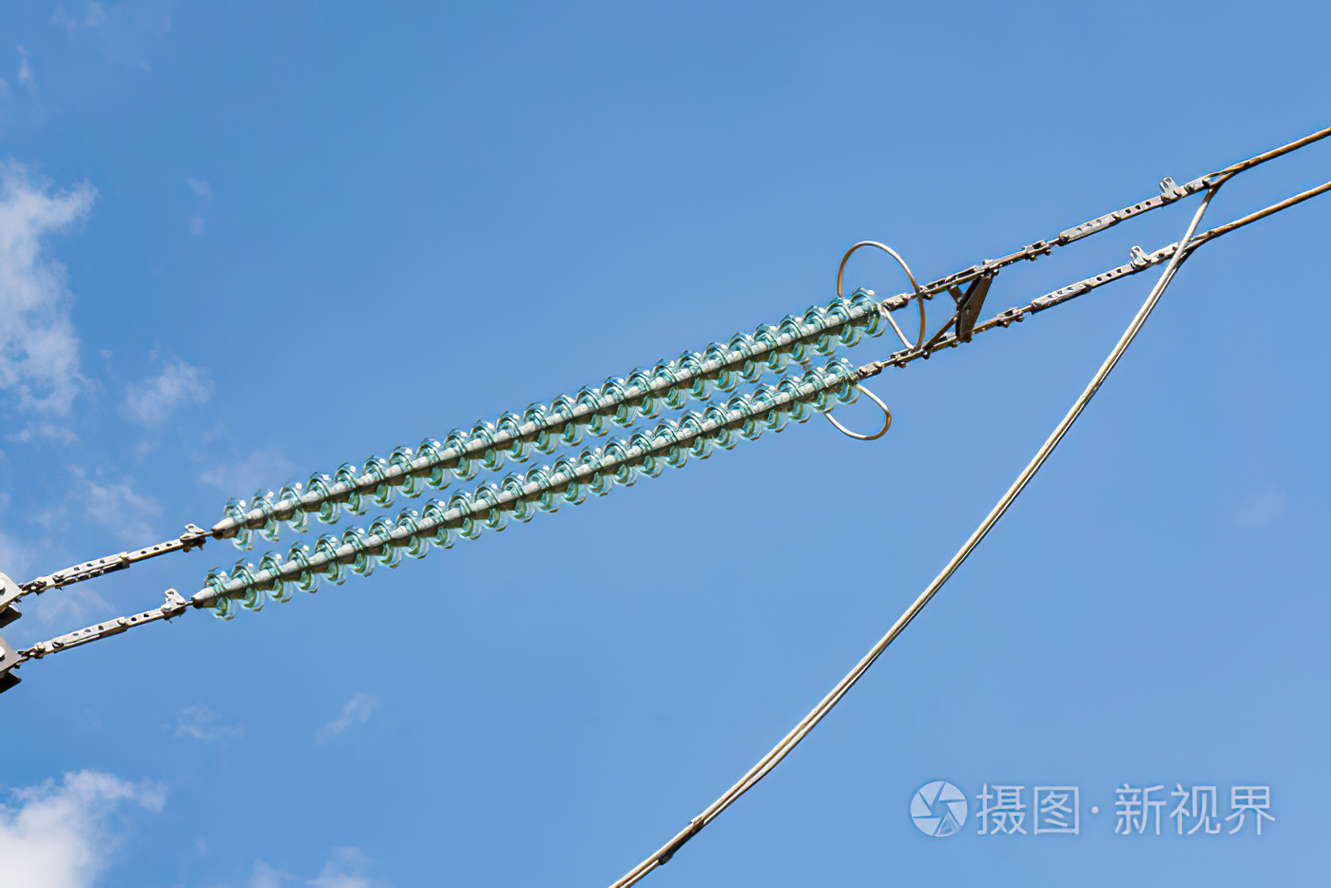insulator: (202, 288, 882, 623)
